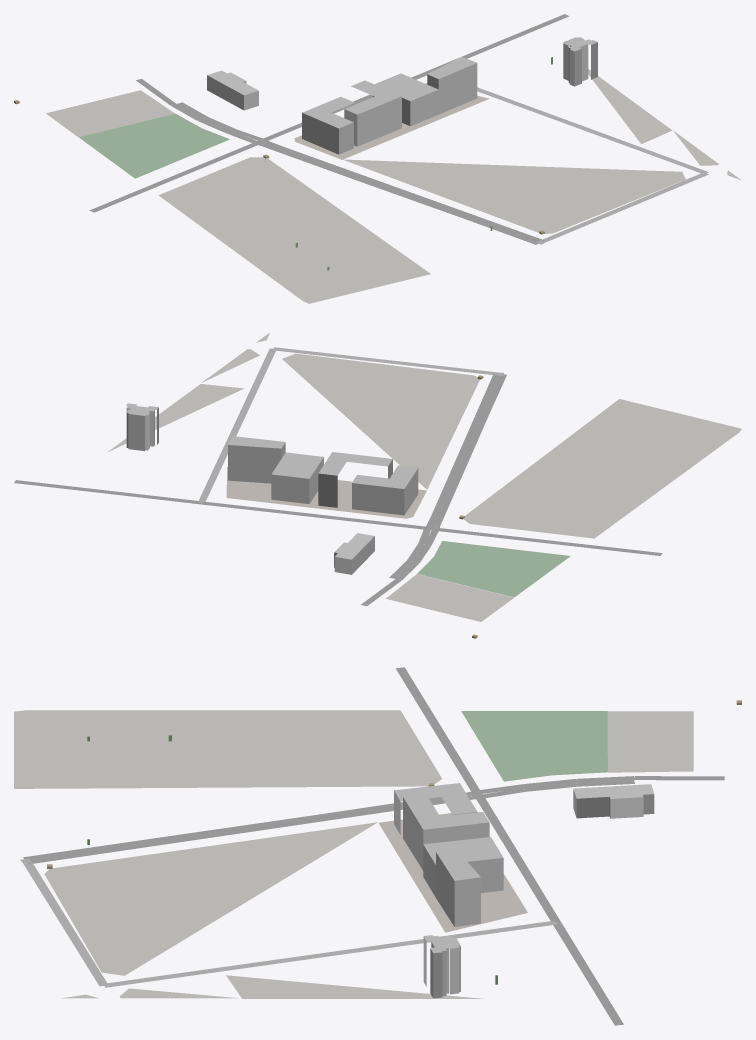
3 renders of one model, top to bottom at view 1: azimuth 30°, elevation 25°; view 2: azimuth 150°, elevation 25°; view 3: azimuth 270°, elevation 25°, orthographic. The views are drawn at different scales.
Size of the model in its own units: 619 by 38.25 by 536.
